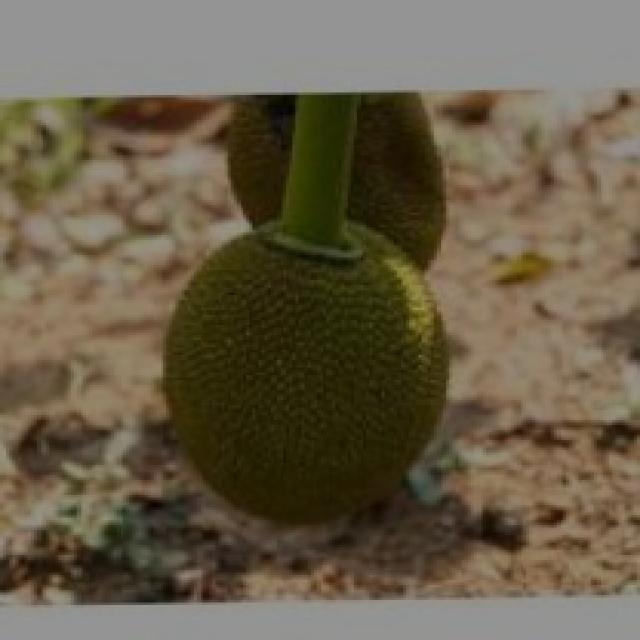Fruit: (148, 210, 477, 540)
